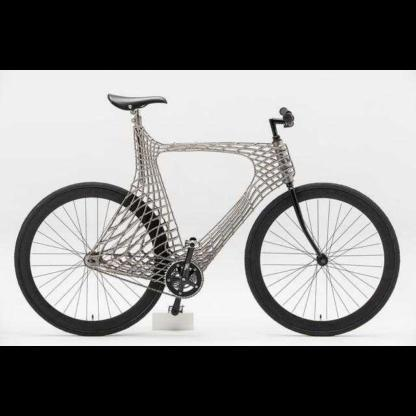Bicycle: (2, 82, 411, 342)
